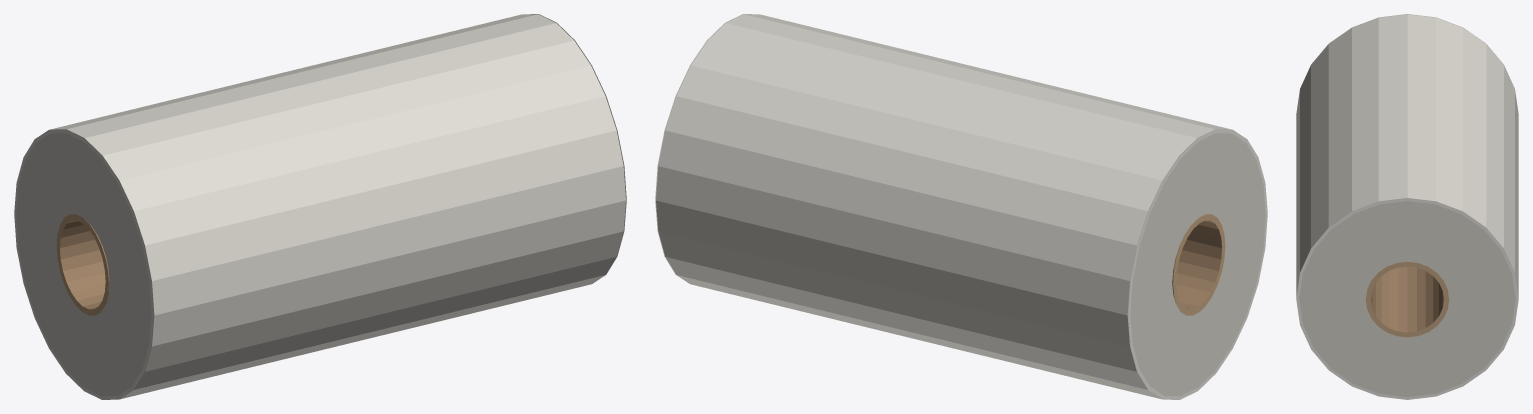
Rendered from 09_paper_towel_roll_h.glb.
3 views of the same model, side by side, from view 1: azimuth 30°, elevation 25°; view 2: azimuth 150°, elevation 25°; view 3: azimuth 270°, elevation 25° (orthographic). The views are drawn at different scales.
Visible parts, largest first — view 1: rolled_paper_outer_wrap, paper_layers_left, cardboard_core_interior, outer_edge_layer, visible_cardboard_tube_left; view 2: rolled_paper_outer_wrap, paper_layers_left, cardboard_core_interior, outer_edge_layer, visible_cardboard_tube_left; view 3: rolled_paper_outer_wrap, paper_layers_right, cardboard_core_interior, outer_edge_layer.001, visible_cardboard_tube_right.
Part boxes in pixels (x1,y1,x2,y2): rolled_paper_outer_wrap: [50, 14, 625, 399]; paper_layers_left: [16, 129, 154, 399]; cardboard_core_interior: [60, 219, 109, 309]; outer_edge_layer: [14, 129, 153, 399]; visible_cardboard_tube_left: [56, 214, 108, 315]; rolled_paper_outer_wrap: [656, 14, 1231, 399]; paper_layers_left: [1127, 129, 1265, 399]; cardboard_core_interior: [1172, 219, 1221, 309]; outer_edge_layer: [1128, 129, 1267, 399]; visible_cardboard_tube_left: [1173, 214, 1225, 315]; rolled_paper_outer_wrap: [1296, 14, 1518, 296]; paper_layers_right: [1299, 198, 1515, 396]; cardboard_core_interior: [1371, 266, 1443, 332]; outer_edge_layer.001: [1296, 198, 1518, 399]; visible_cardboard_tube_right: [1365, 261, 1449, 337].
Size of the model in its own units: 0.252 by 0.128 by 0.128.
